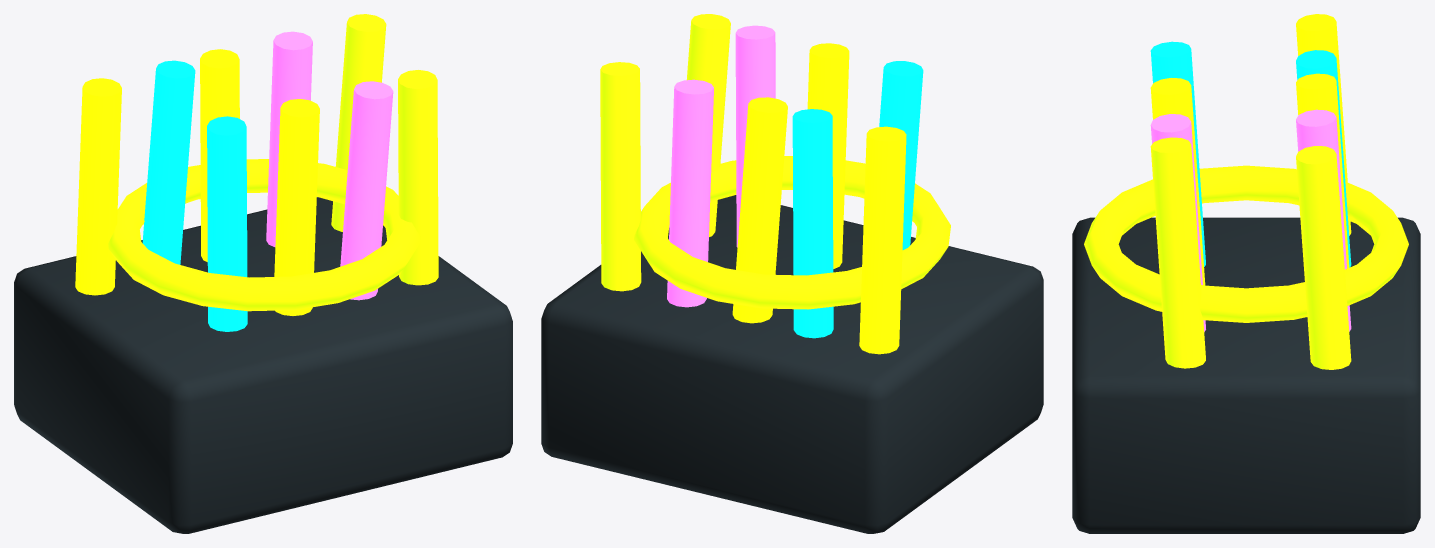
File: glow_sticks.fbx
3 views of the same model, side by side, from view 1: azimuth 30°, elevation 25°; view 2: azimuth 150°, elevation 25°; view 3: azimuth 270°, elevation 25° (orthographic). The views are drawn at different scales.
Visible parts, largest first — view 1: Glow Sticks; view 2: Glow Sticks; view 3: Glow Sticks.
Boxes of the visible parts, x1,y1,x2,y2 form: Glow Sticks: (14,14,512,533); Glow Sticks: (541,14,1043,533); Glow Sticks: (1072,14,1420,533).
Bounding box in the file's own units: 0.7 × 0.7027 × 0.6.
